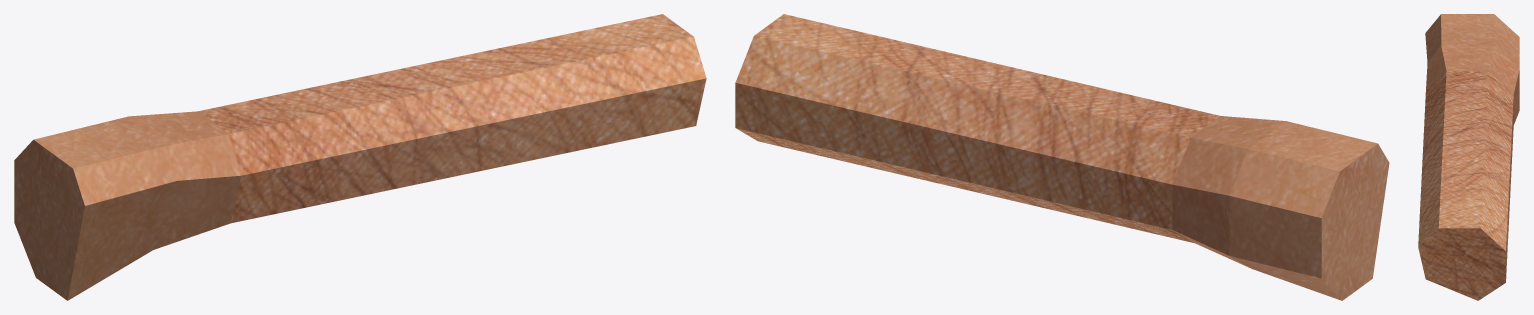
File: ruka.glb
3 views of the same model, side by side, from view 1: azimuth 30°, elevation 25°; view 2: azimuth 150°, elevation 25°; view 3: azimuth 270°, elevation 25° (orthographic). The views are drawn at different scales.
Visible parts, largest first — view 1: ruka; view 2: ruka; view 3: ruka.
Part boxes in pixels (x1,y1,x2,y2): ruka: (14,14,706,300); ruka: (735,14,1389,300); ruka: (1418,14,1519,300).
Size of the model in its own units: 0.6352 by 0.1337 by 0.1349.
1 material, 1 textured.
